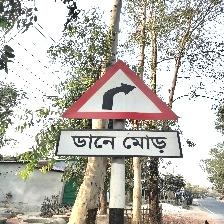Right-turn: (57, 59, 184, 160)
